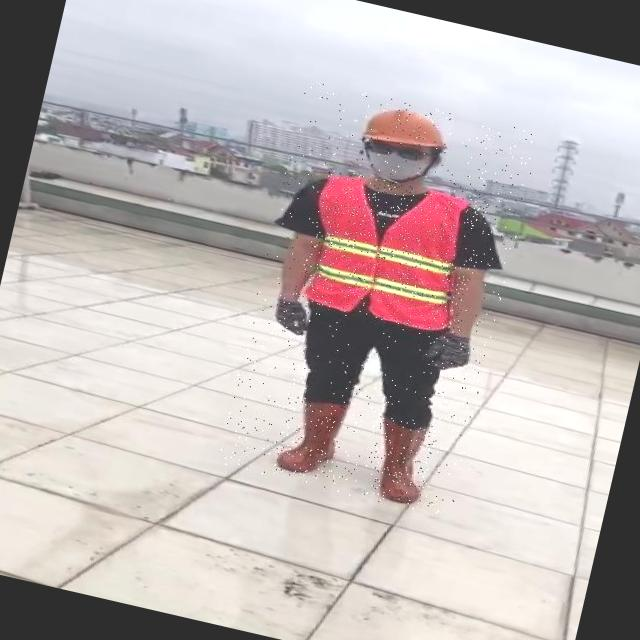boots: (362, 415, 437, 507), (271, 392, 346, 481)
gloves: (422, 315, 485, 388), (264, 291, 314, 342)
helmet: (358, 99, 456, 157)
vest: (296, 166, 489, 338)
